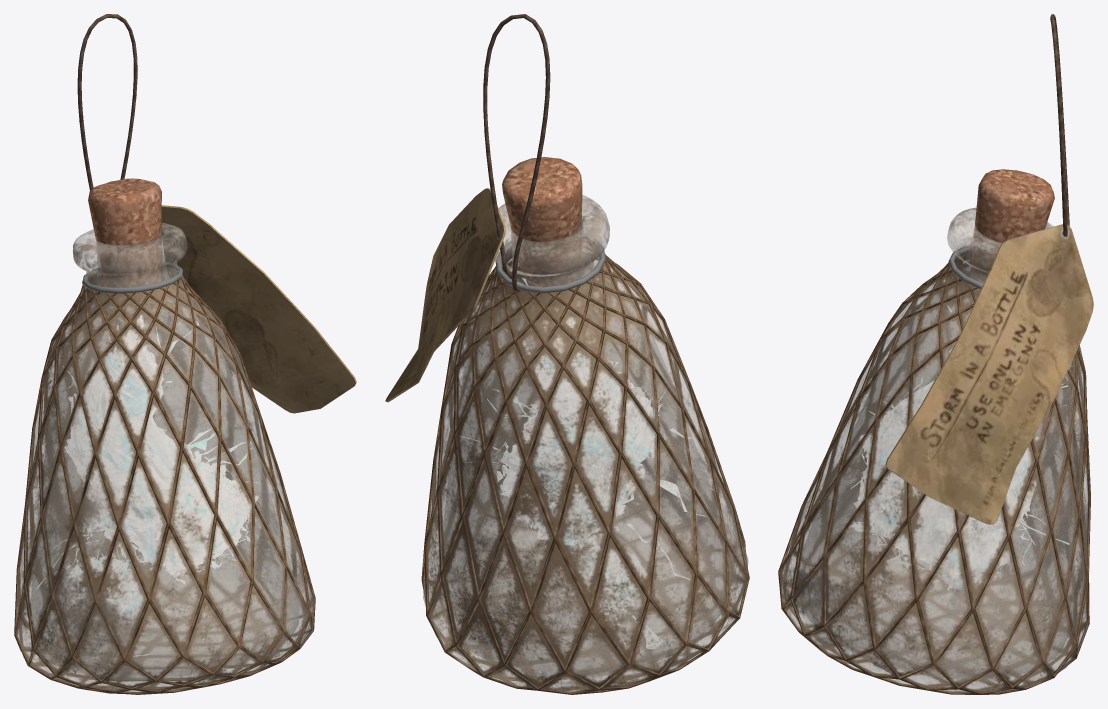
Rendered from Storm_Bottle.glb.
The picture shows the model from 3 angles, left to right: view 1: azimuth 30°, elevation 25°; view 2: azimuth 150°, elevation 25°; view 3: azimuth 270°, elevation 25°; orthographic projection. The views are drawn at different scales.
Visible parts, largest first — view 1: Storm_Bottle; view 2: Storm_Bottle; view 3: Storm_Bottle.
Part boxes in pixels (x1=…): Storm_Bottle: x1=14, y1=14, x2=356, y2=694; Storm_Bottle: x1=385, y1=14, x2=749, y2=694; Storm_Bottle: x1=778, y1=14, x2=1093, y2=694.
Bounding box in the file's own units: 0.2028 × 0.4 × 0.1775.
4 materials, 2 textured.
